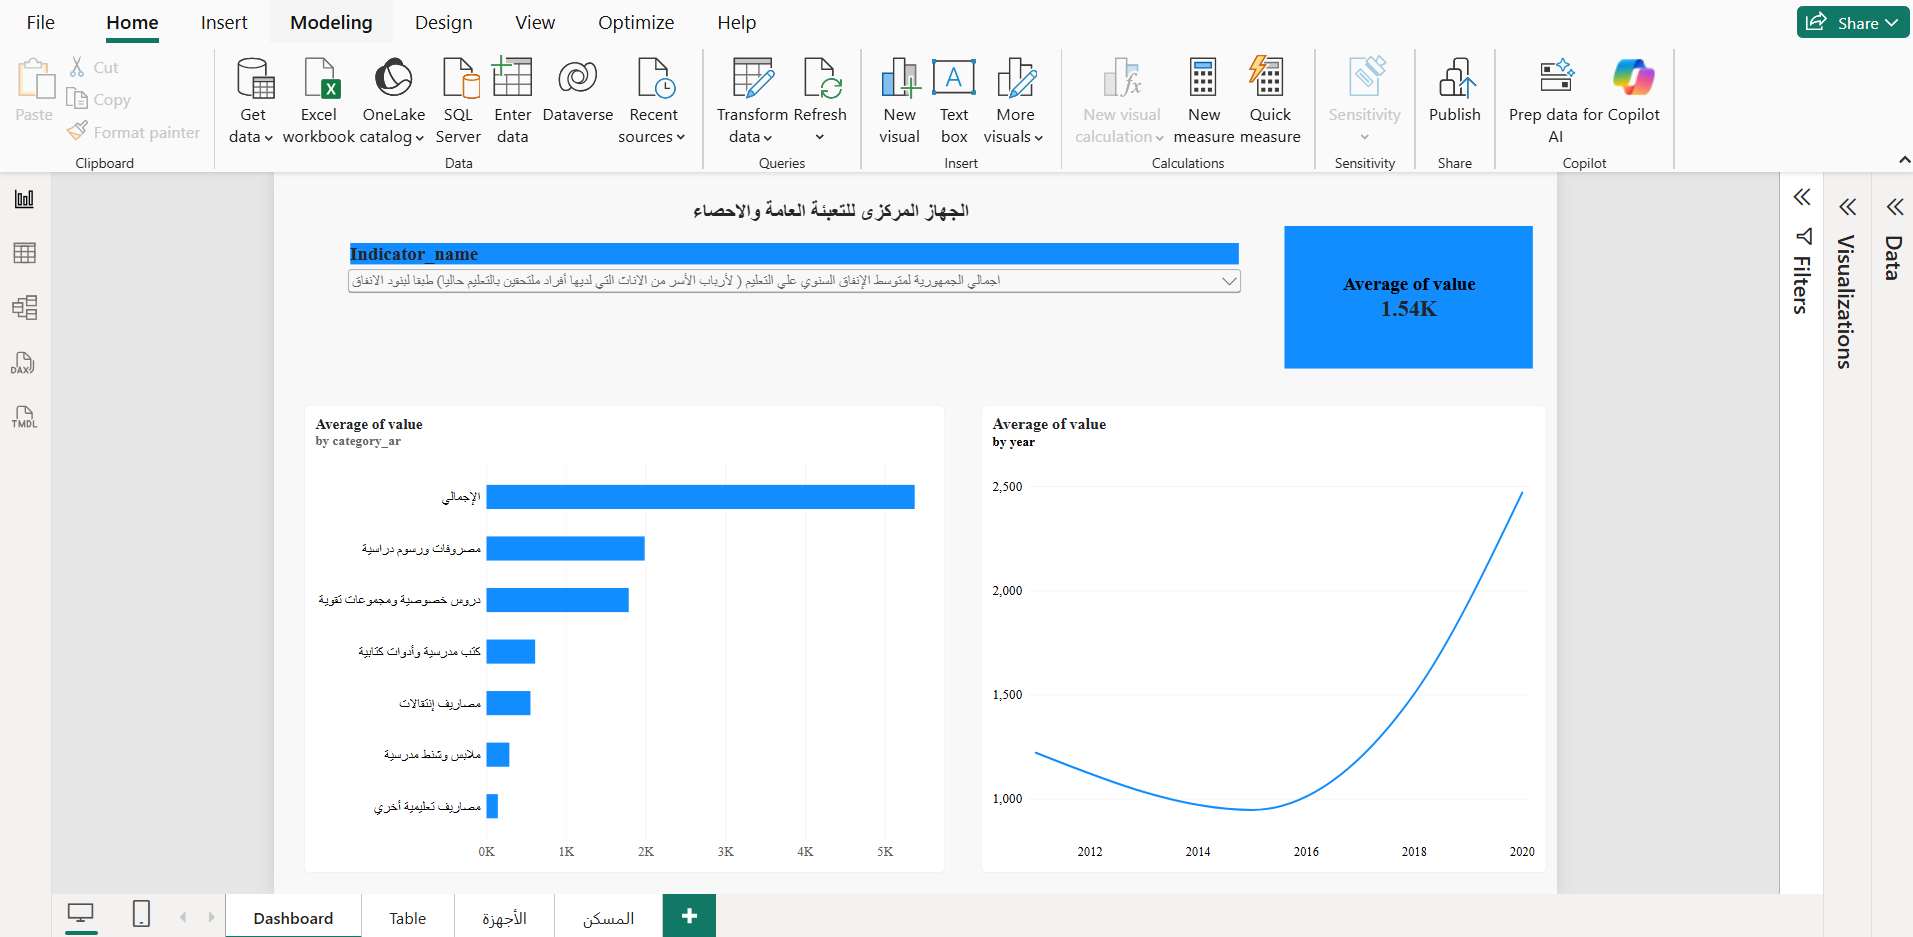

The dashboard page shown, as its layout file describes it:
{"tool":"powerbi","page":{"name":"Dashboard","canvas":[1920,1080],"ordinal":0},"visuals":[{"type":"lineChart","fields":{"Category":["Sheet1.year"],"Y":["Avg(Sheet1.value)"]},"box":[1058,347.9,846,699.8],"z":0},{"type":"slicer","fields":{"Values":["Sheet1.indicator_name"]},"box":[107,107,1346.1,127.6],"z":1000},{"type":"clusteredBarChart","fields":{"Category":["Sheet1.category_ar"],"Y":["Avg(Sheet1.value)"]},"box":[45.3,347.9,959.2,699.8],"z":2000},{"type":"cardVisual","fields":{"Data":["Avg(Sheet1.value)"]},"box":[1510.8,80.3,374.6,216.1],"z":3000},{"type":"textbox","box":[607.7,40.8,451.7,80.8],"z":3001}]}

Visuals, with their boxes on the page's 1920x1080 design canvas (x1, y1, x2, y2). These are canvas units, not pixel positions in the 1913x937 screenshot, which may show the page scaled, cropped or inside an application window:
lineChart - Sheet1.year x Avg(Sheet1.value): region(1058, 348, 1904, 1048)
slicer - Sheet1.indicator_name: region(107, 107, 1453, 235)
clusteredBarChart - Sheet1.category_ar x Avg(Sheet1.value): region(45, 348, 1004, 1048)
cardVisual - Avg(Sheet1.value): region(1511, 80, 1885, 296)
textbox: region(608, 41, 1059, 122)
